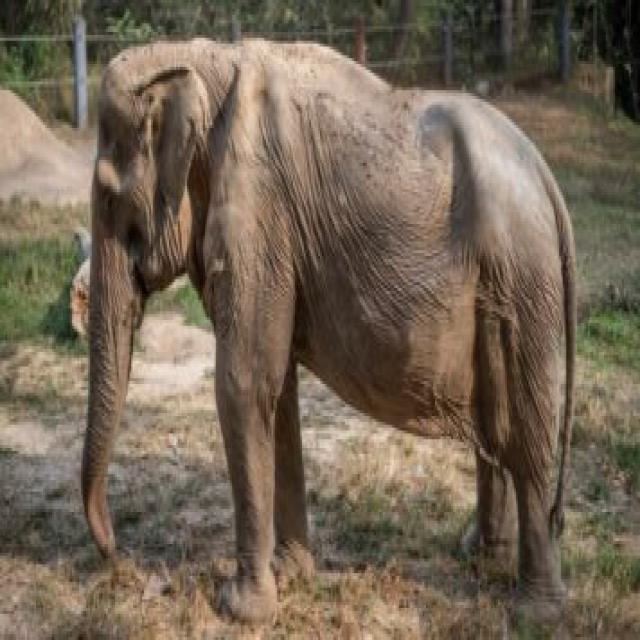Elephant: (80, 34, 586, 616)
